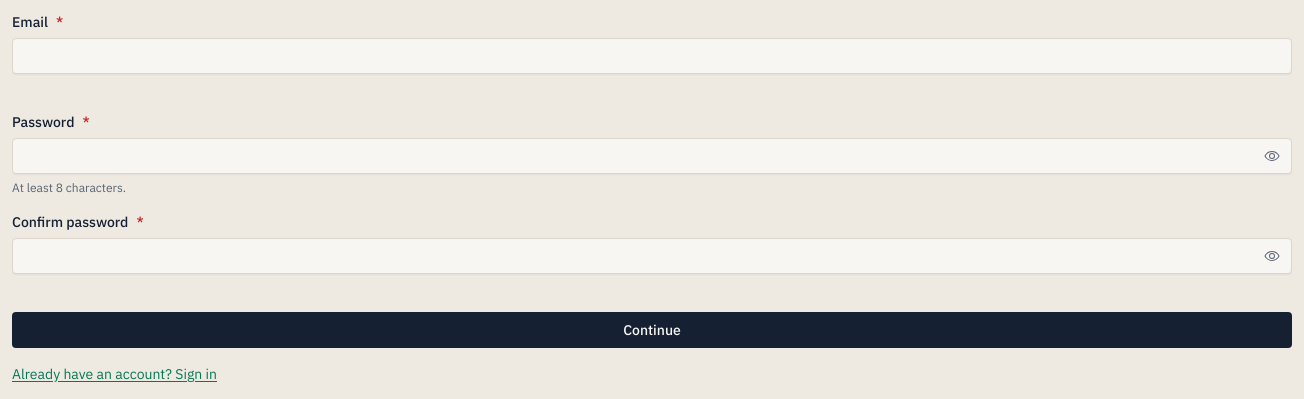
Test: SignupForm › shows validation errors and does not submit when the form is empty
What coordinates should you click on to do the following:
click the button "Continue"
I would click on:
 (652, 330)
Its box is [12,312,1292,348].
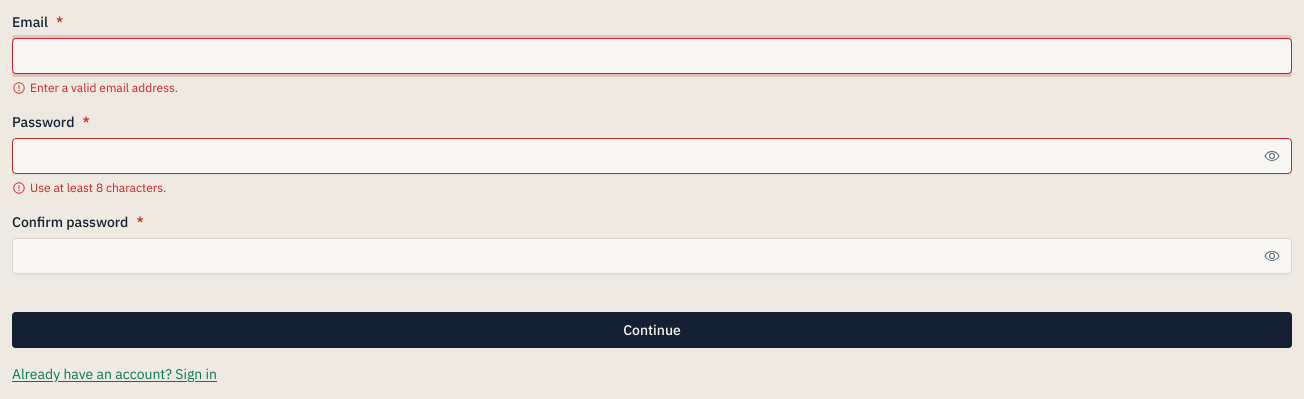
Expected: the text "Enter a valid email address." is shown, [12,80,178,95]
Expected: the text "Use at least 8 characters." is shown, [12,180,166,195]
